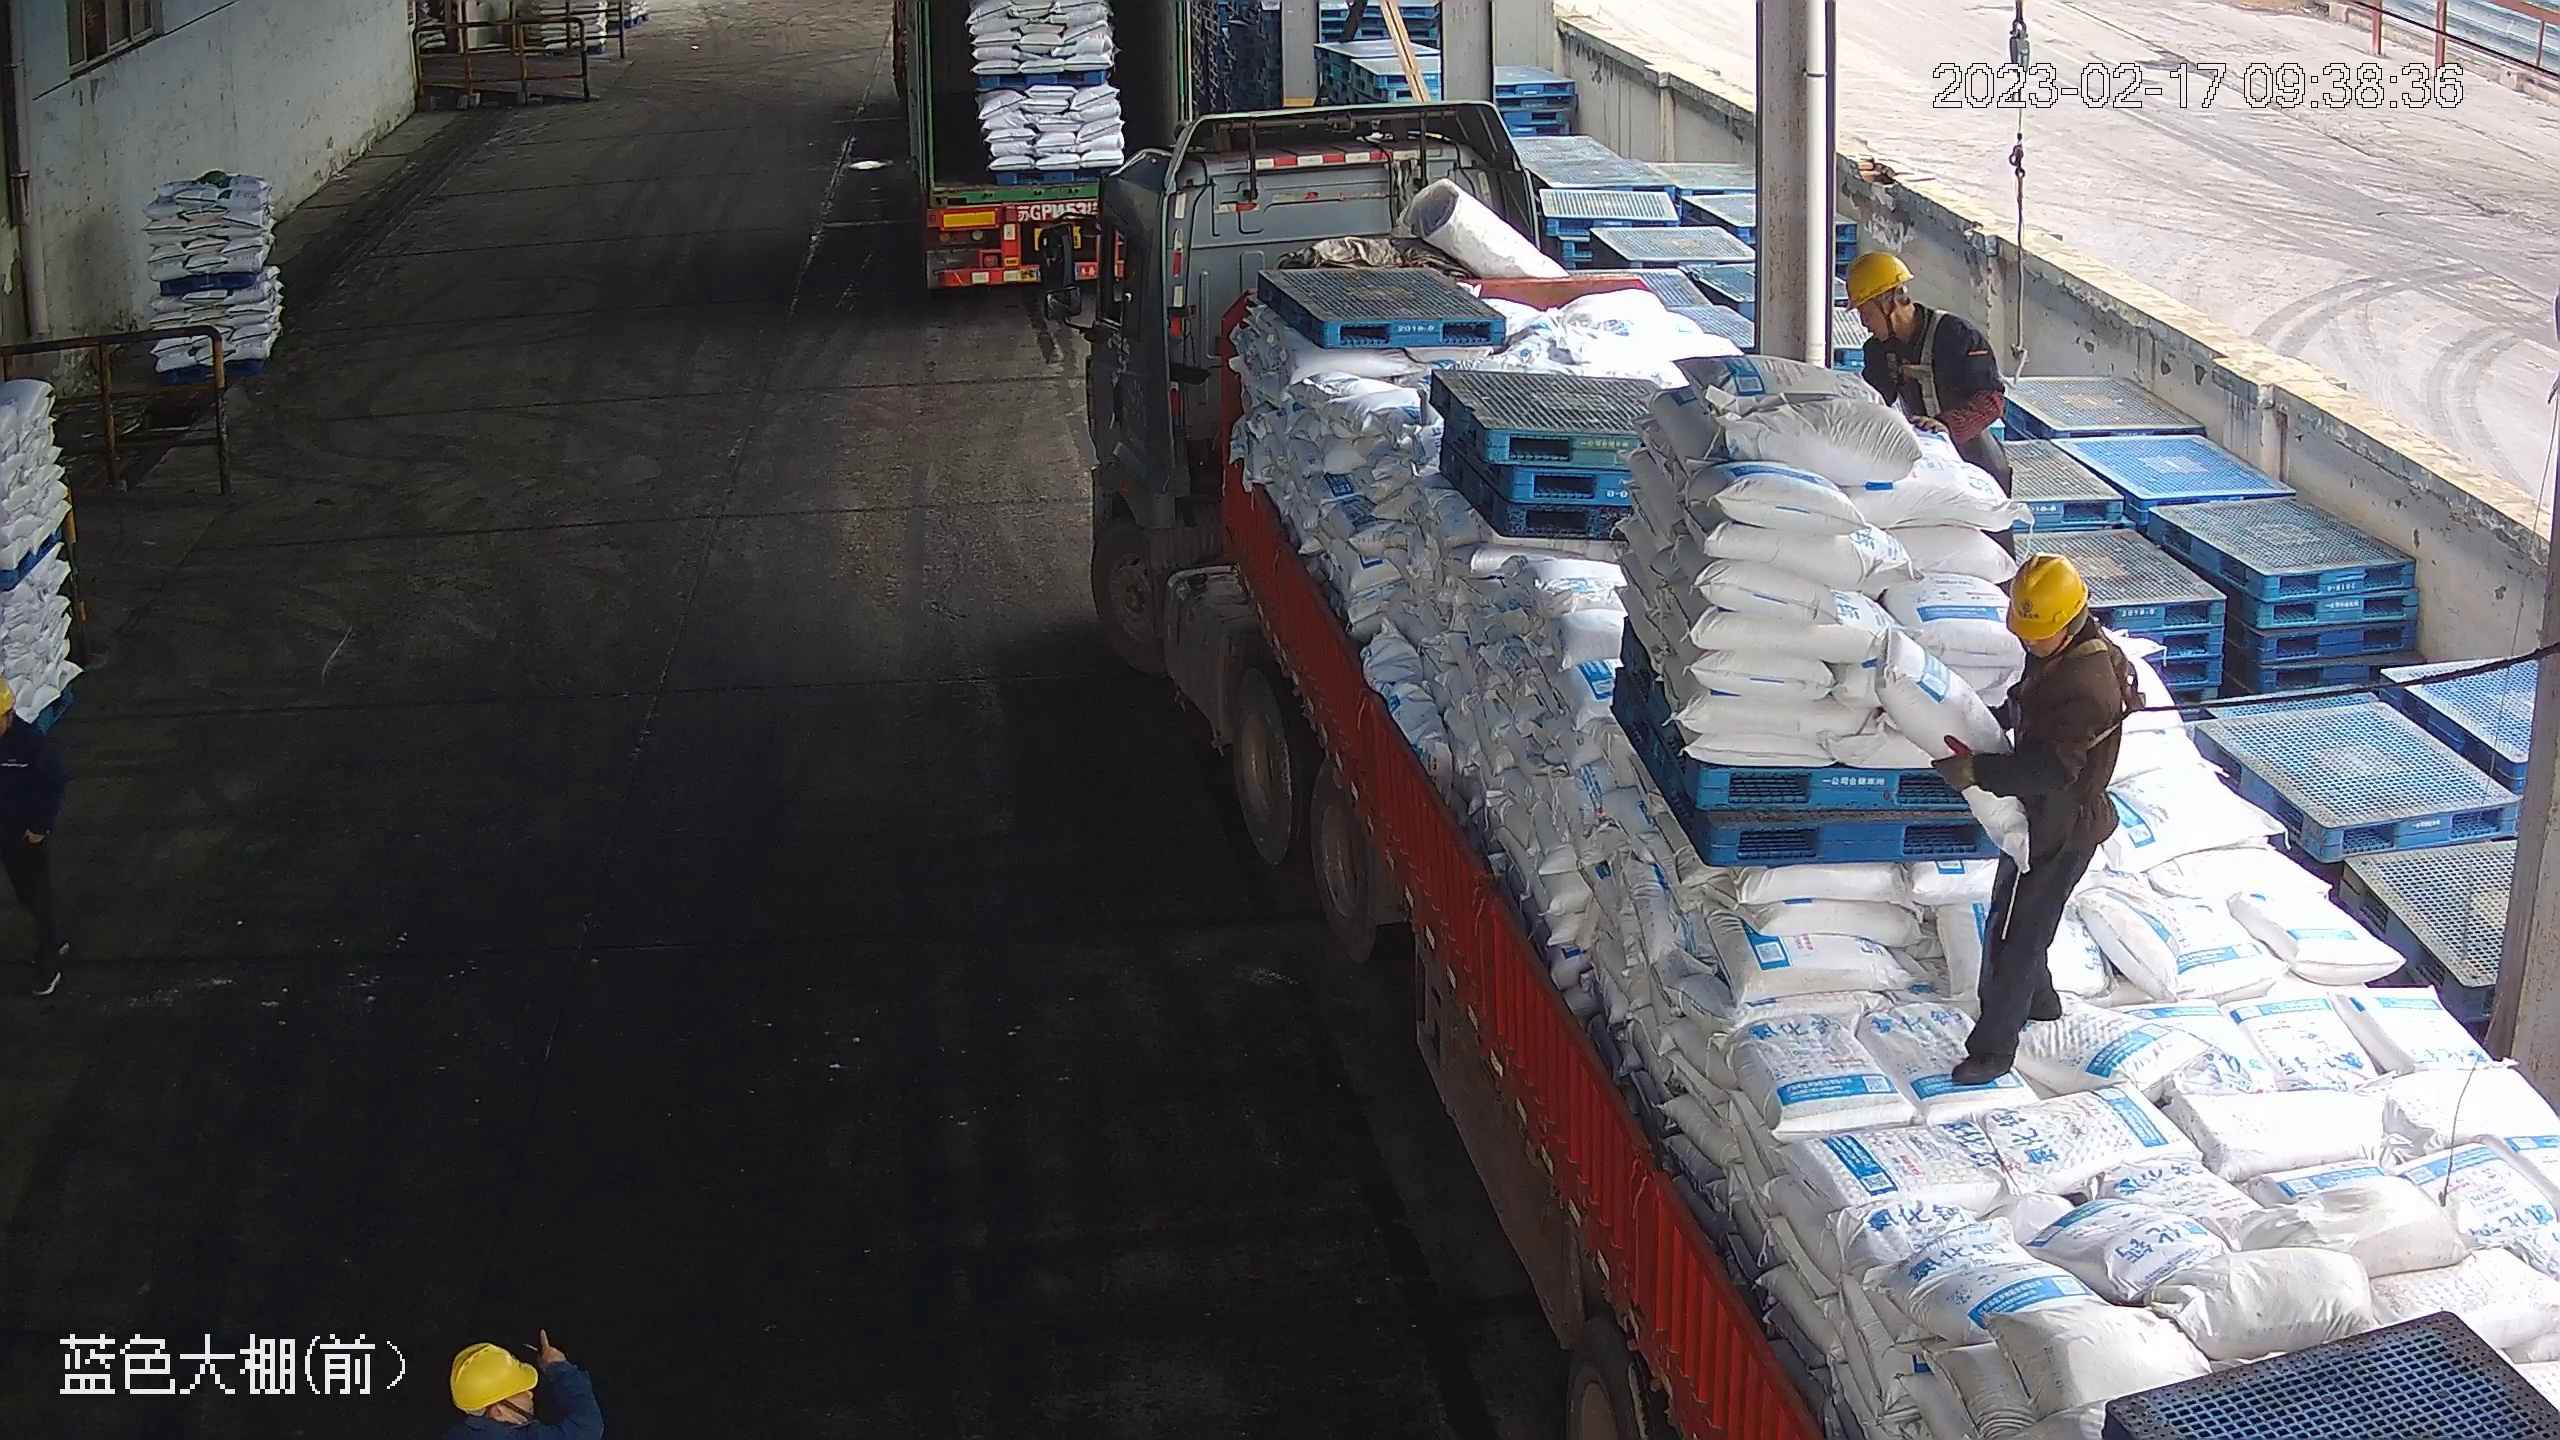belt: (2049, 628, 2138, 749), (1882, 324, 1943, 389)
head: (1991, 550, 2133, 707), (1843, 244, 1980, 361)
helmet: (1997, 548, 2090, 641), (443, 1341, 537, 1408), (1840, 243, 1913, 307)
people: (1933, 551, 2136, 1086), (1843, 244, 2019, 499), (1, 676, 73, 998)
truck: (1039, 100, 2557, 1440), (891, 1, 1187, 291)
